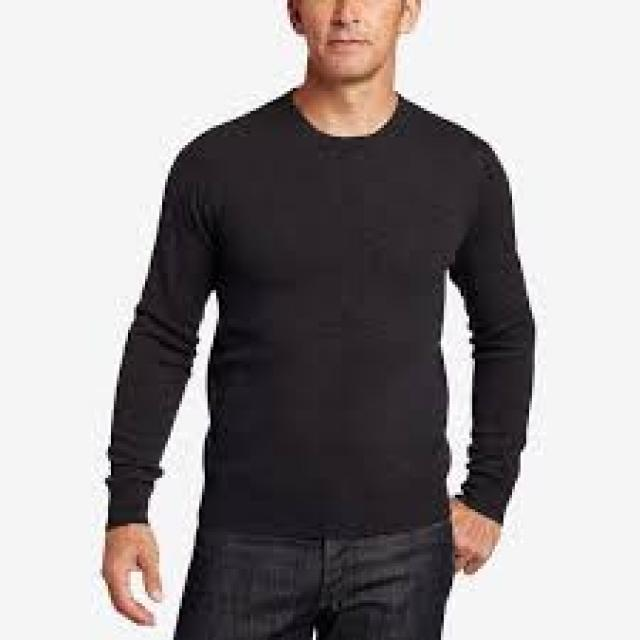plain: (59, 83, 572, 581)
